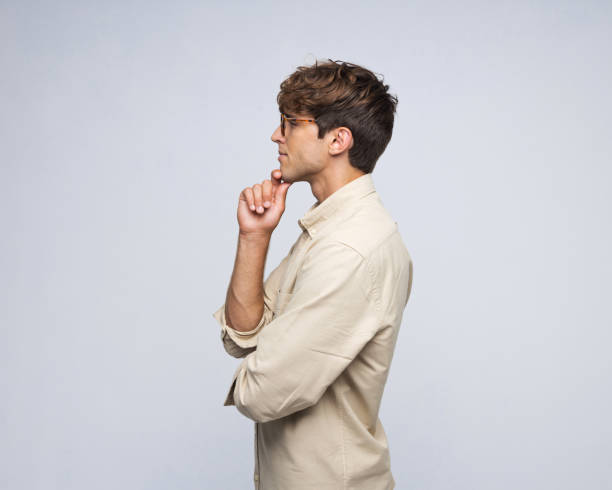Male: (169, 53, 414, 490)
